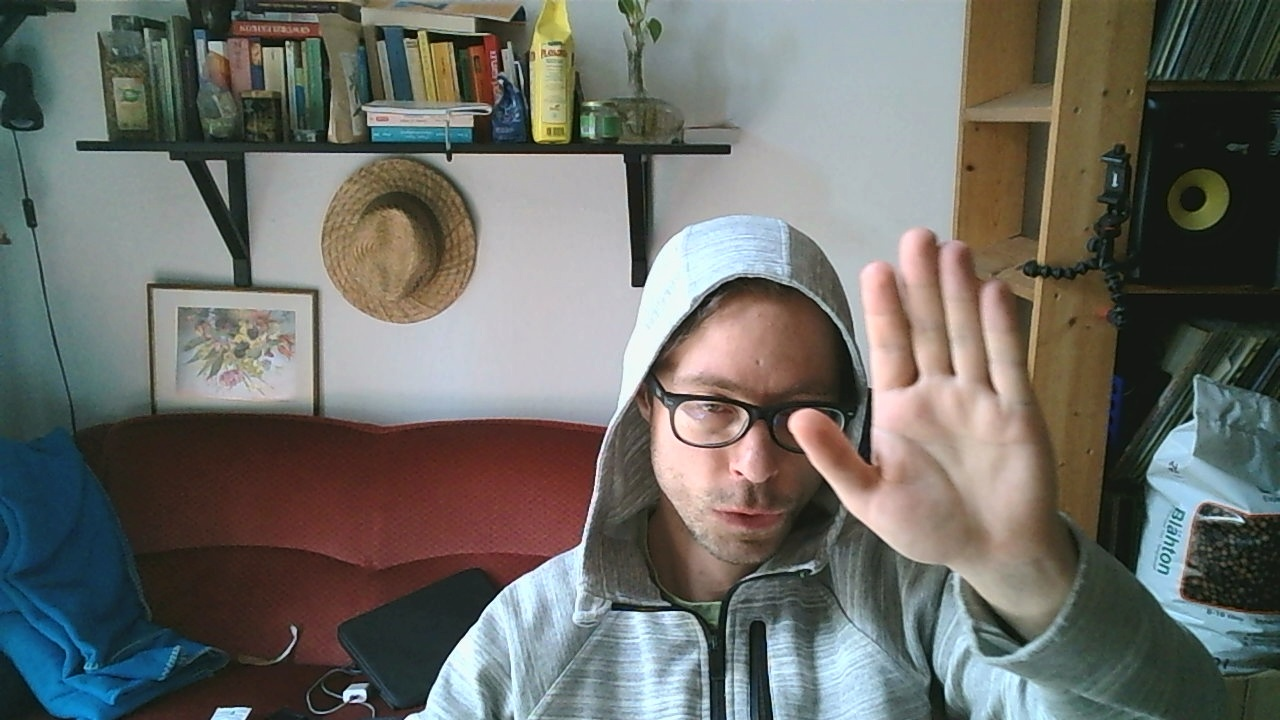hello: (786, 227, 1059, 564)
